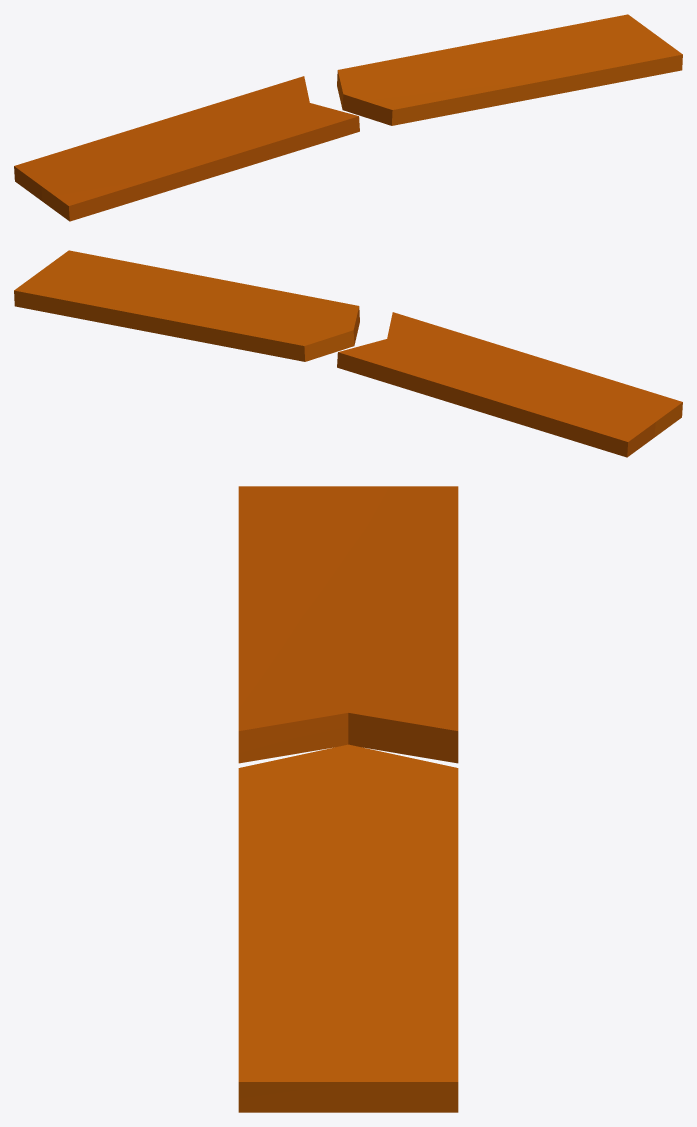
Rendered from Broken_plank_15.fbx.
The picture shows the model from 3 angles, top to bottom: view 1: azimuth 30°, elevation 25°; view 2: azimuth 150°, elevation 25°; view 3: azimuth 270°, elevation 25°; orthographic projection. The views are drawn at different scales.
Visible parts, largest first — view 1: Cube.107, Cube.102; view 2: Cube.107, Cube.102; view 3: Cube.102, Cube.107.
Part boxes in pixels (x1,y1,x2,y2): Cube.107: (14,76,359,221); Cube.102: (337,14,682,125); Cube.107: (337,312,682,457); Cube.102: (14,250,359,361); Cube.102: (238,744,458,1112); Cube.107: (238,486,458,763).
Bounding box in the file's own units: 84.45 × 4.58 × 13.07.
